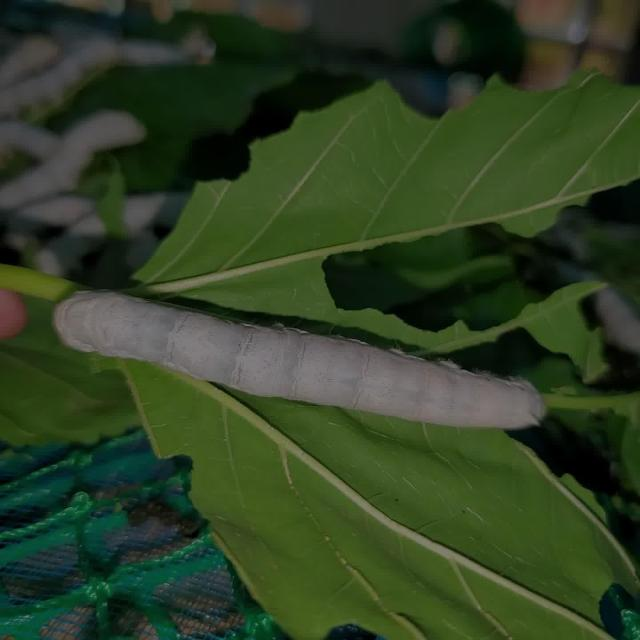Healthy: (28, 268, 571, 469)
